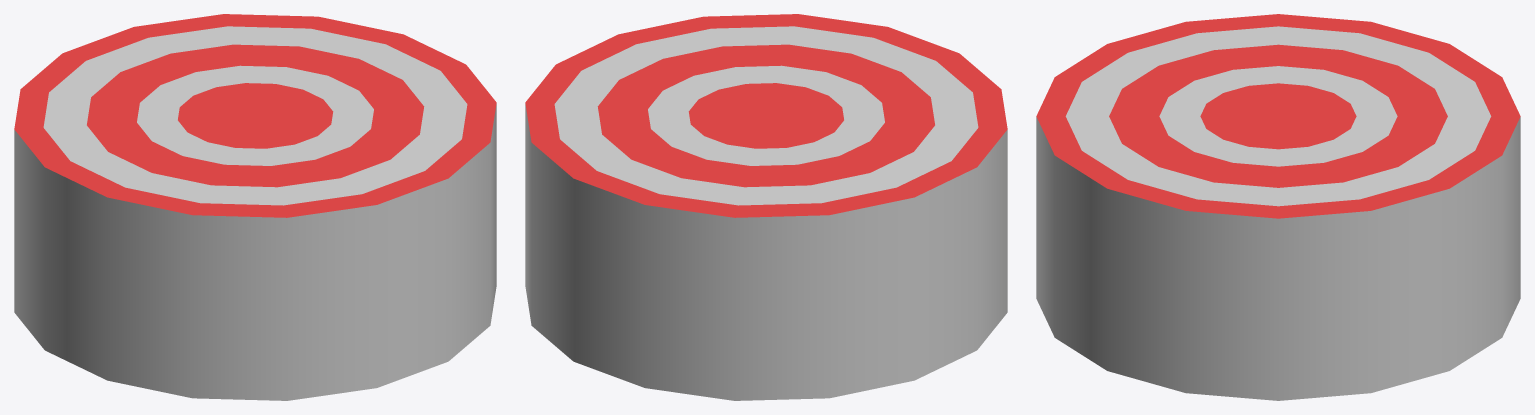
Rendered from mesh_cible.FBX.
3 renders of one model, left to right at view 1: azimuth 30°, elevation 25°; view 2: azimuth 150°, elevation 25°; view 3: azimuth 270°, elevation 25°, orthographic.
Parts seen in each view (by area): view 1: cible; view 2: cible; view 3: cible.
Boxes of the visible parts, bbox=[...] form: cible: bbox=[14, 14, 496, 400]; cible: bbox=[525, 14, 1007, 400]; cible: bbox=[1036, 14, 1520, 400].
Bounding box in the file's own units: 36.12 × 15 × 36.12.
